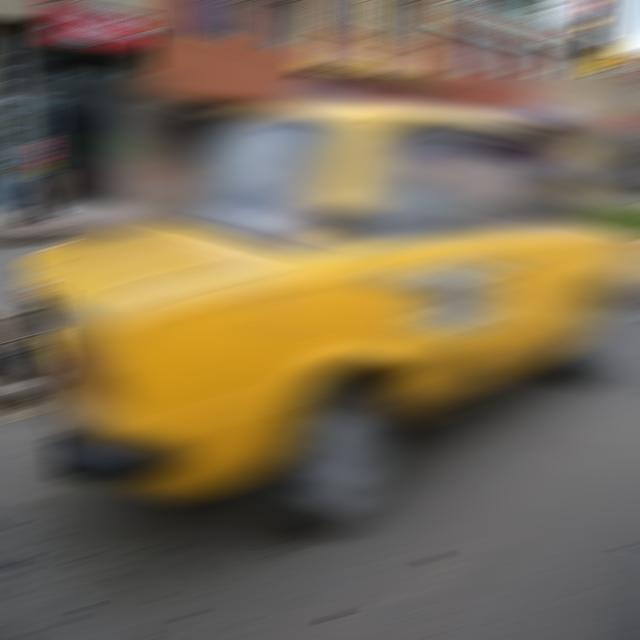Taxi: (58, 75, 640, 541)
